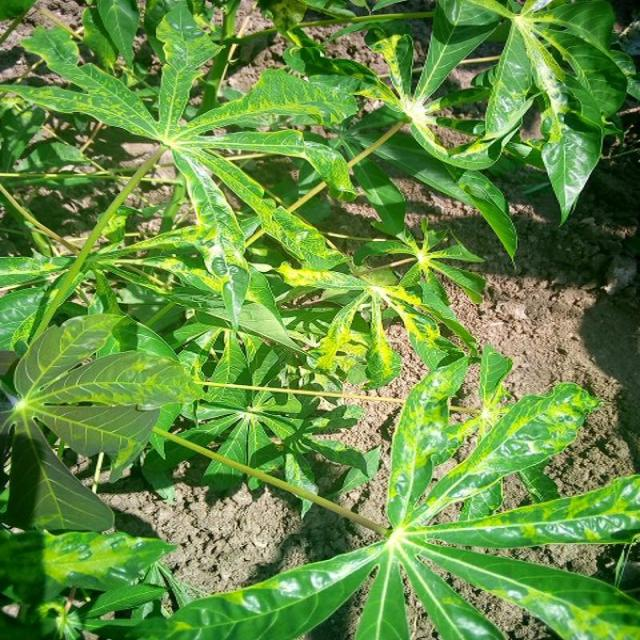cassava leaf: (1, 1, 638, 637), (162, 345, 638, 638)
